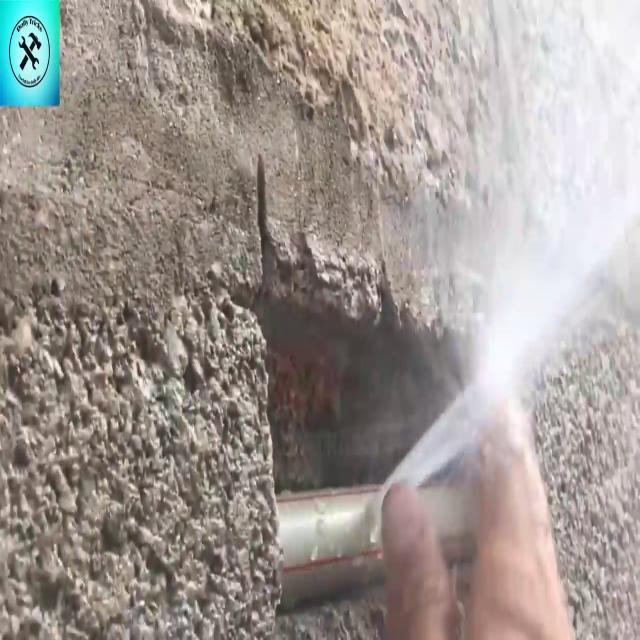leak: (374, 131, 640, 534)
